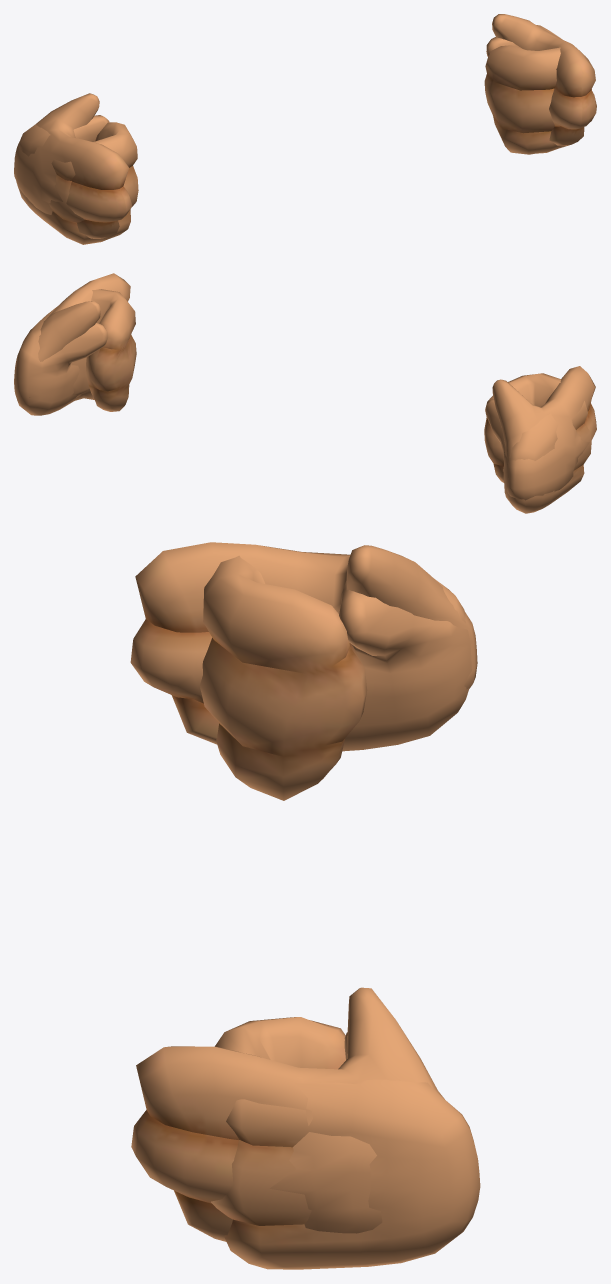
Rendered from Hands.fbx.
3 views of the same model, one above another, from view 1: azimuth 30°, elevation 25°; view 2: azimuth 150°, elevation 25°; view 3: azimuth 270°, elevation 25° (orthographic). The views are drawn at different scales.
Parts seen in each view (by area): view 1: Hand_Open_R, Hand_Grip_L, Hand_Open_L, Hand_Grip_R; view 2: Hand_Grip_L, Hand_Open_R, Hand_Grip_R, Hand_Open_L; view 3: Hand_Grip_R, Hand_Grip_L, Hand_Open_L, Hand_Open_R.
Part boxes in pixels (x1,y1,x2,y2): Hand_Open_R: (14,93,132,238); Hand_Grip_L: (484,25,591,154); Hand_Open_L: (492,14,596,145); Hand_Grip_R: (16,115,138,244); Hand_Grip_L: (14,289,136,415); Hand_Open_R: (492,366,596,500); Hand_Grip_R: (484,373,591,513); Hand_Open_L: (29,273,130,397); Hand_Grip_R: (200,555,471,800); Hand_Grip_L: (211,1017,480,1269); Hand_Open_L: (131,987,444,1241); Hand_Open_R: (130,542,477,744).
Bounding box in the file's own units: 1.3 × 0.3359 × 0.37.
